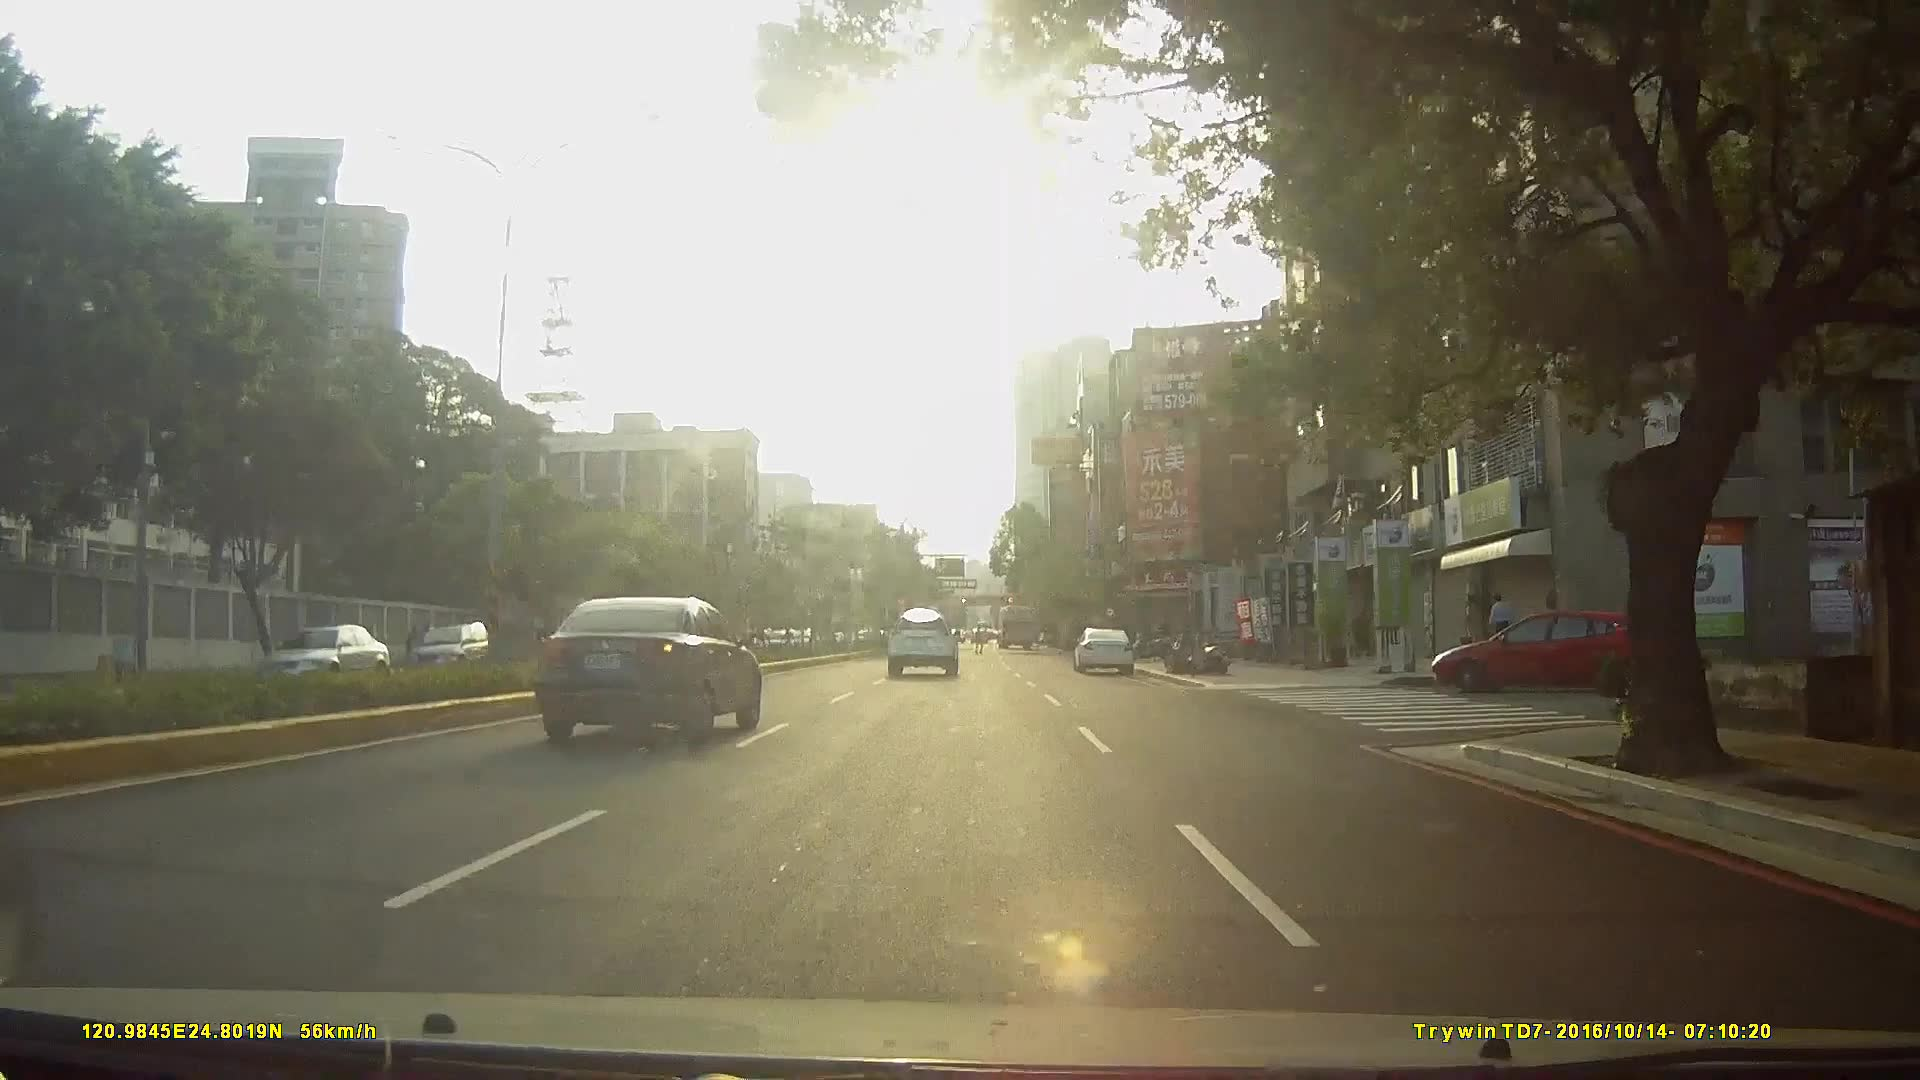pedestrian: (1488, 591, 1513, 662)
vehicle: (539, 591, 765, 746), (1423, 609, 1660, 706), (252, 617, 398, 693), (406, 611, 505, 670), (886, 606, 961, 676), (1071, 622, 1138, 671), (993, 599, 1037, 647)
